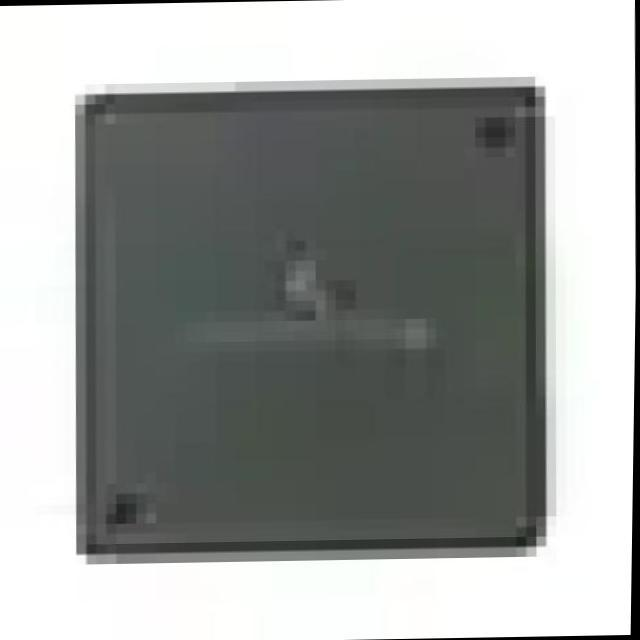IC: (33, 63, 570, 579)
